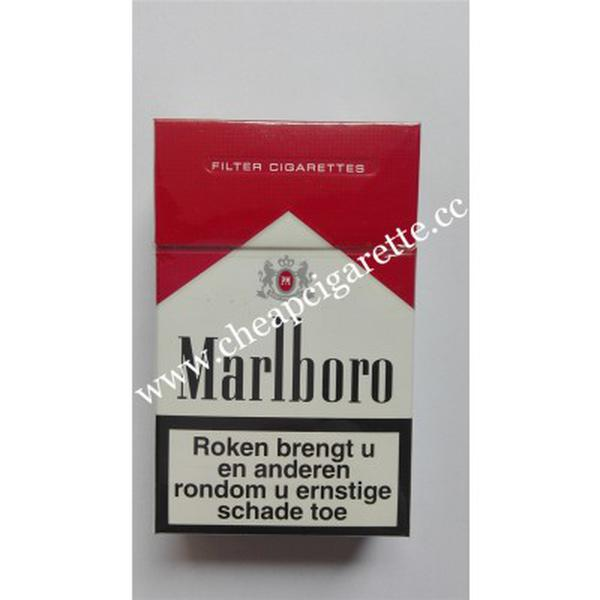marlboro_red: (152, 127, 412, 534)
